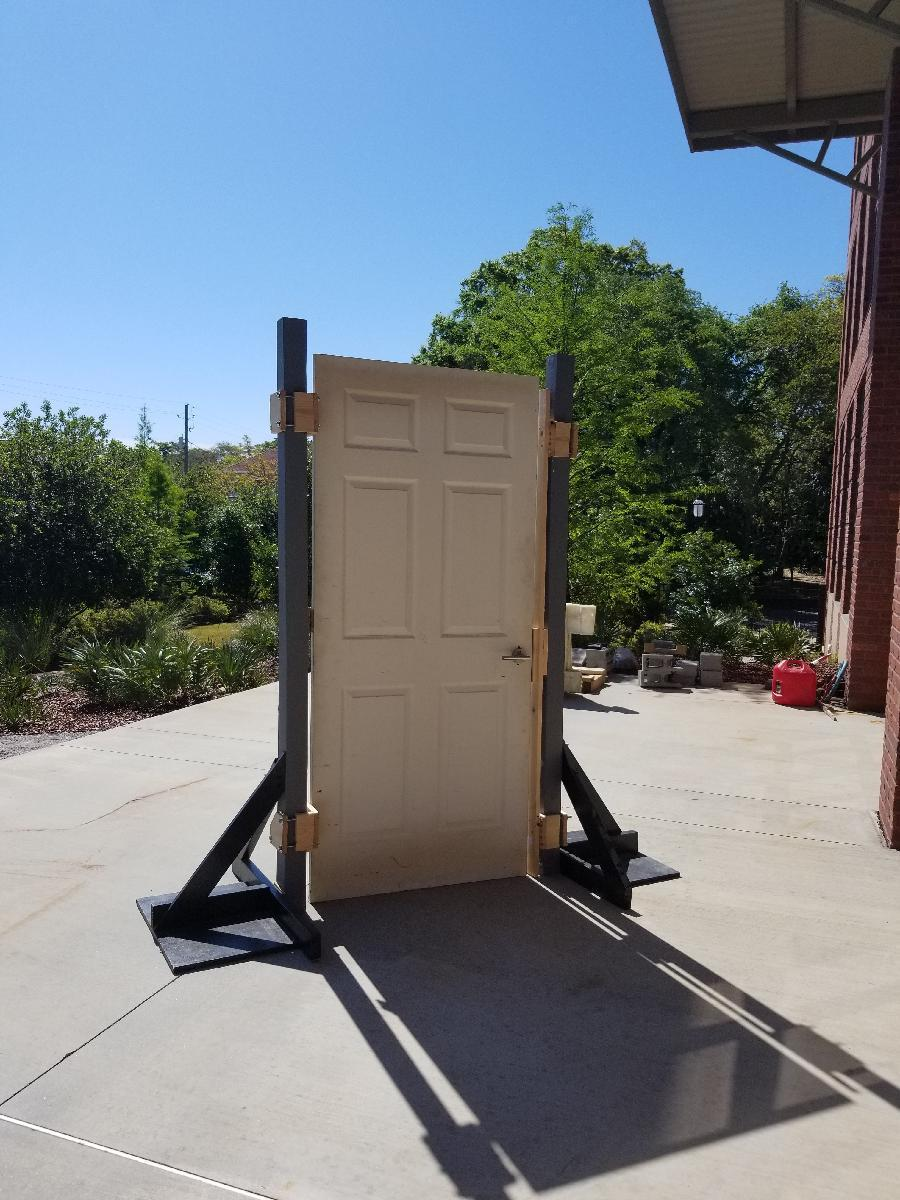door: (313, 356, 542, 904)
handle: (499, 644, 533, 666)
